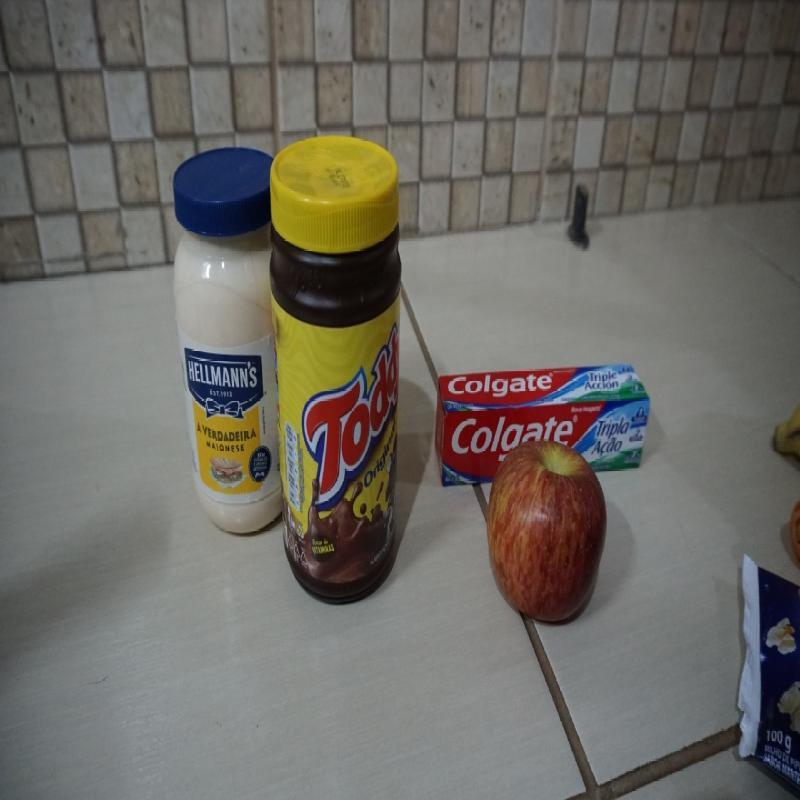Apple: (484, 438, 608, 619)
Chocolate Powder: (267, 134, 407, 614)
Mayonnaise: (167, 144, 283, 538)
Popcorn: (737, 547, 796, 788)
Toothpaste: (432, 365, 652, 493)
